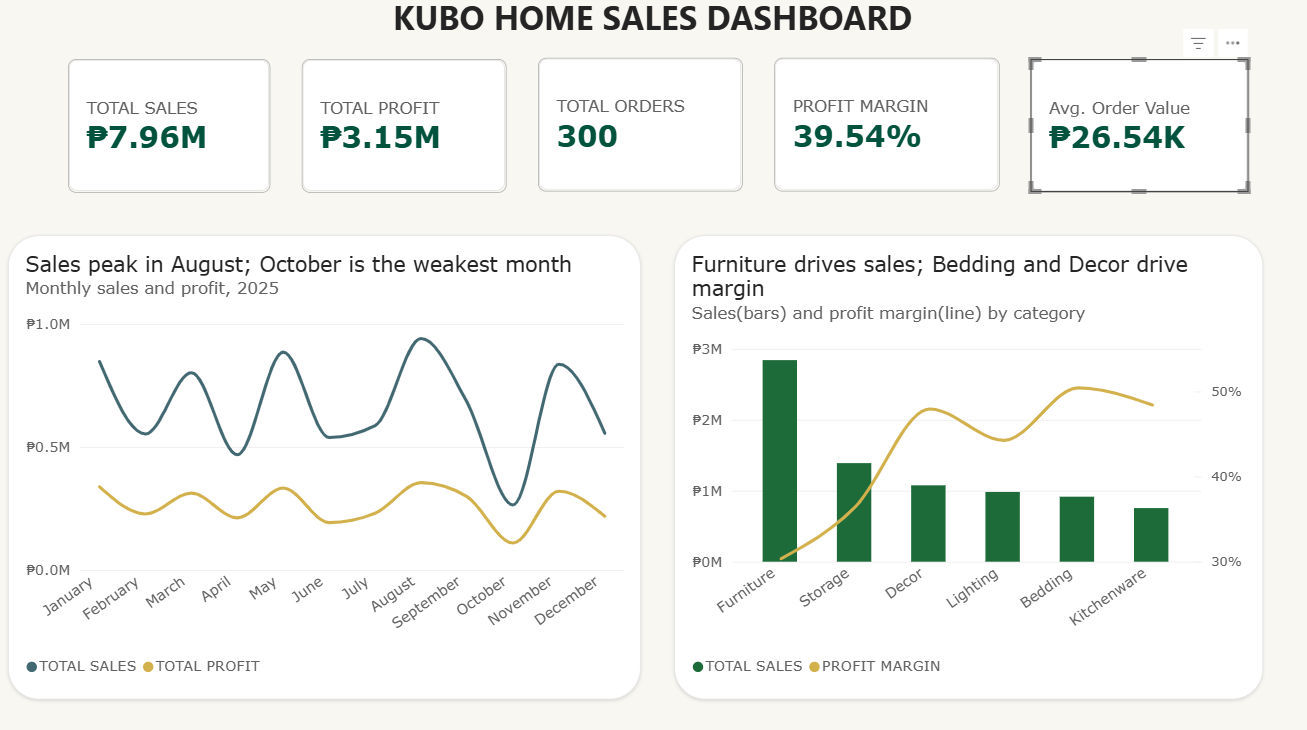

The dashboard page shown, as its layout file describes it:
{"tool":"powerbi","page":{"name":"Overview","canvas":[1280,720],"ordinal":0},"visuals":[{"type":"textbox","box":[387,0,546.8,59.7],"z":0},{"type":"cardVisual","fields":{"Data":["KuboHome_Sales.TOTAL SALES"]},"box":[72.7,63.1,196.1,129.9],"z":1000},{"type":"cardVisual","fields":{"Data":["KuboHome_Sales.TOTAL PROFIT"]},"box":[299,63.1,198.7,129.9],"z":2000},{"type":"cardVisual","fields":{"Data":["KuboHome_Sales.TOTAL ORDERS"]},"box":[527.9,61.8,198.7,129.9],"z":3000},{"type":"cardVisual","fields":{"Data":["KuboHome_Sales.AOV"]},"box":[1005.2,63.1,211.7,129.9],"z":4000},{"type":"cardVisual","fields":{"Data":["KuboHome_Sales.PROFIT MARGIN"]},"box":[756.8,61.8,218.2,129.9],"z":5000},{"type":"lineChart","title":"Sales peak in August; October is the weakest month","fields":{"Category":["KuboHome_Sales.Order Date.Variation.Date Hierarchy.Month"],"Y":["KuboHome_Sales.TOTAL SALES","KuboHome_Sales.TOTAL PROFIT"]},"box":[14.3,233.8,613,449.4],"z":6000},{"type":"lineClusteredColumnComboChart","title":"Furniture drives sales; Bedding and Decor drive margin","fields":{"Category":["KuboHome_Sales.Category"],"Y":["KuboHome_Sales.TOTAL SALES"],"Y2":["KuboHome_Sales.PROFIT MARGIN"]},"box":[660,233.3,570.1,449.4],"z":7000}]}

Visuals, with their boxes in screenshot pixels (x1, y1, x2, y2), scaled from the page's 1280x720 canvas onto the 1307x730 screenshot:
textbox: {"left": 395, "top": 0, "right": 953, "bottom": 61}
cardVisual - KuboHome_Sales.TOTAL SALES: {"left": 74, "top": 64, "right": 274, "bottom": 196}
cardVisual - KuboHome_Sales.TOTAL PROFIT: {"left": 305, "top": 64, "right": 508, "bottom": 196}
cardVisual - KuboHome_Sales.TOTAL ORDERS: {"left": 539, "top": 63, "right": 742, "bottom": 194}
cardVisual - KuboHome_Sales.AOV: {"left": 1026, "top": 64, "right": 1243, "bottom": 196}
cardVisual - KuboHome_Sales.PROFIT MARGIN: {"left": 773, "top": 63, "right": 996, "bottom": 194}
"Sales peak in August; October is the weakest month" lineChart: {"left": 15, "top": 237, "right": 641, "bottom": 693}
"Furniture drives sales; Bedding and Decor drive margin" lineClusteredColumnComboChart: {"left": 674, "top": 237, "right": 1256, "bottom": 692}
